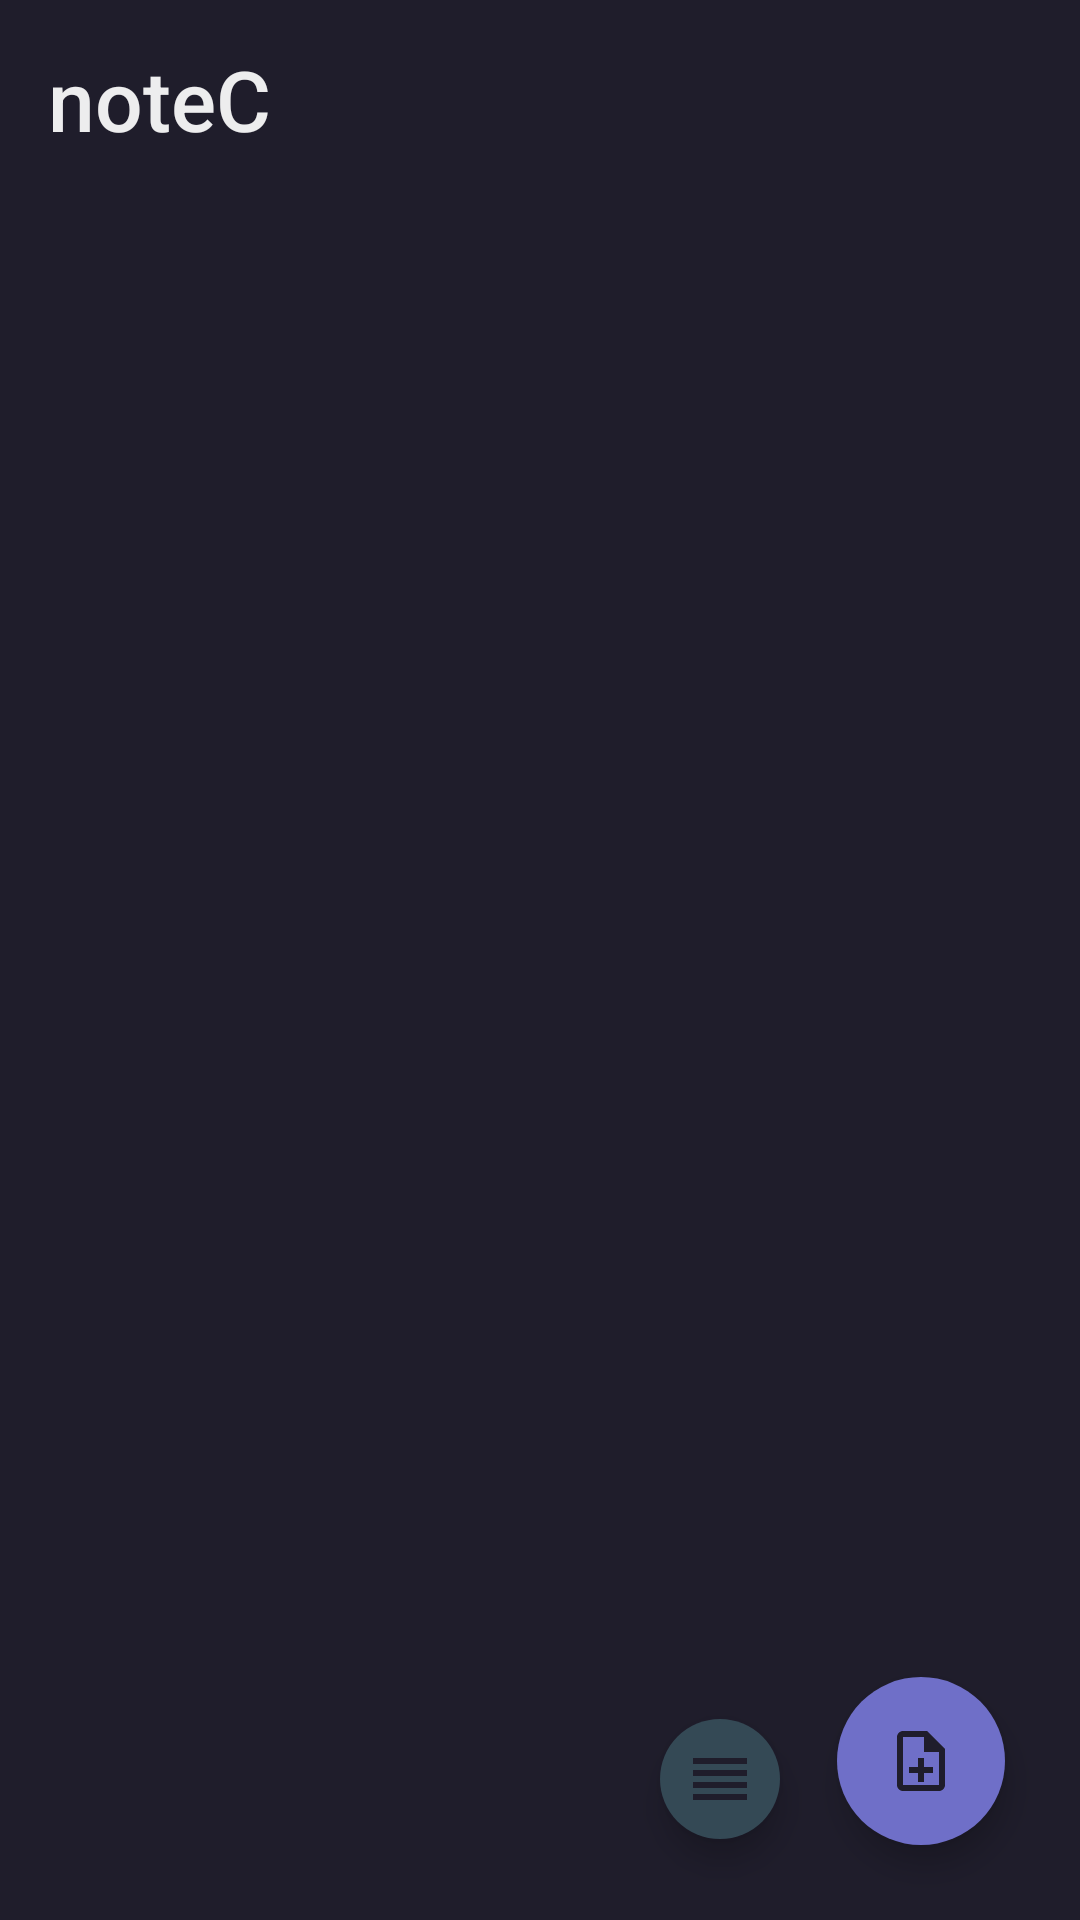

Icons on this 1080*1920 Android screen, each with the point to tap as (x,y):
note: (921,1761)
order: (720,1779)
